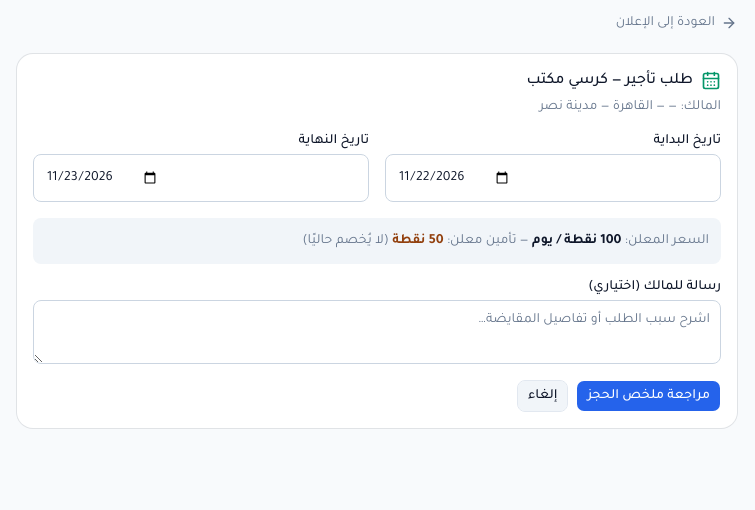
Test: A5 booking summary (SRS §4.10) › rejects the booking when the server says the period is unavailable (0032)
Expected: the text "تاريخ البداية" is shown, [654, 134, 721, 148]
Click the button "مراجعة ملخص الحجز" at (649, 396), box [576, 380, 721, 412]
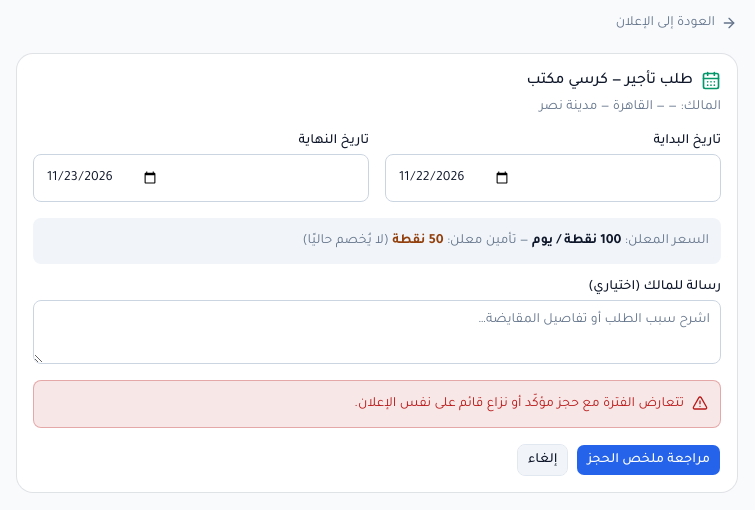
Expected: the message shows "تتعارض الفترة مع حجز مؤكّد أو نزاع قائم", [354, 397, 684, 411]
